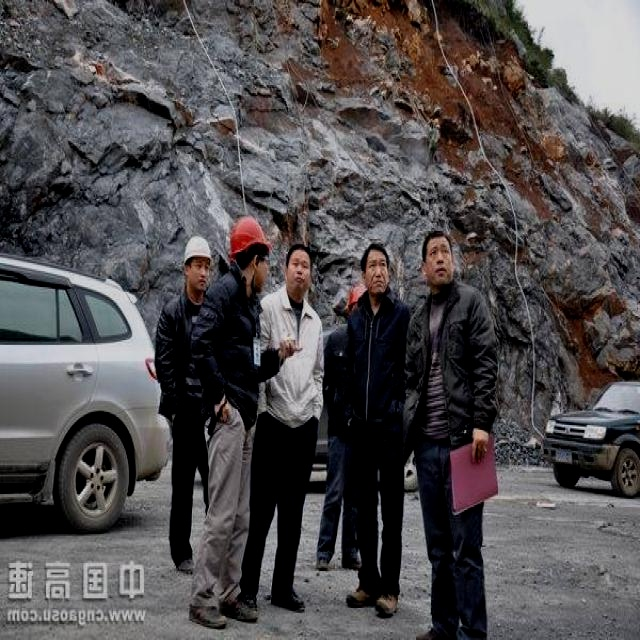Con_Casco: (231, 217, 274, 292), (182, 236, 211, 293)
Sin_Casco_Mascarrilla: (417, 229, 454, 294), (360, 242, 391, 294)
